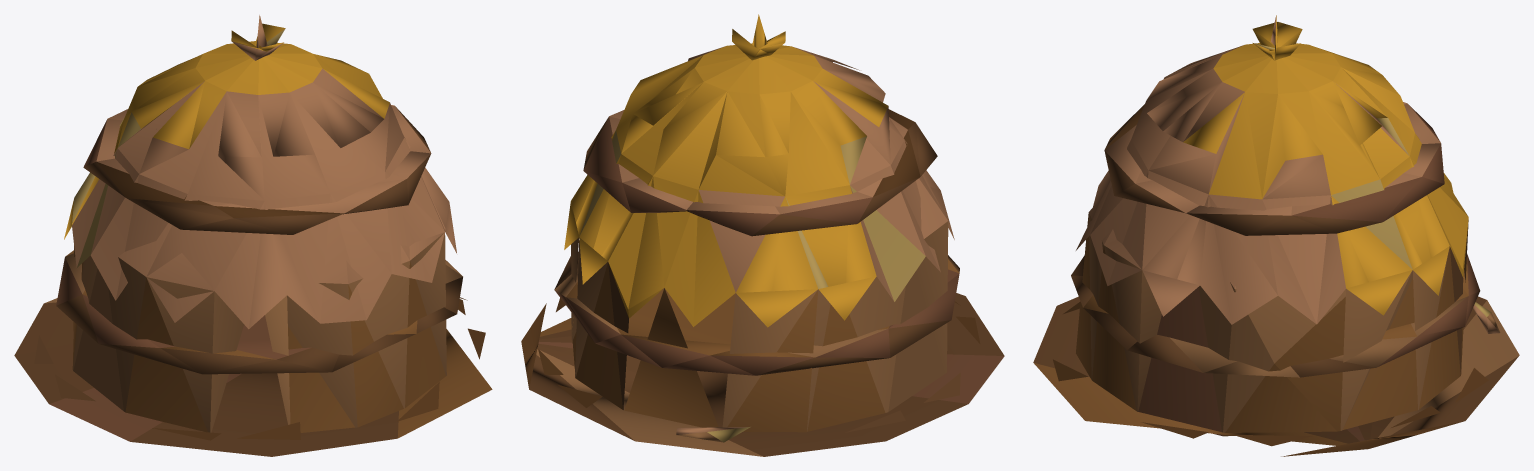
File: prop.haystack.glb
3 views of the same model, side by side, from view 1: azimuth 30°, elevation 25°; view 2: azimuth 150°, elevation 25°; view 3: azimuth 270°, elevation 25° (orthographic).
Parts seen in each view (by area): view 1: asset; view 2: asset; view 3: asset.
Boxes of the visible parts, x1=… form: asset: x1=14, y1=15, x2=492, y2=456; asset: x1=521, y1=14, x2=1004, y2=456; asset: x1=1033, y1=15, x2=1519, y2=456.
Bounding box in the file's own units: 1.15 × 0.9 × 1.15.
